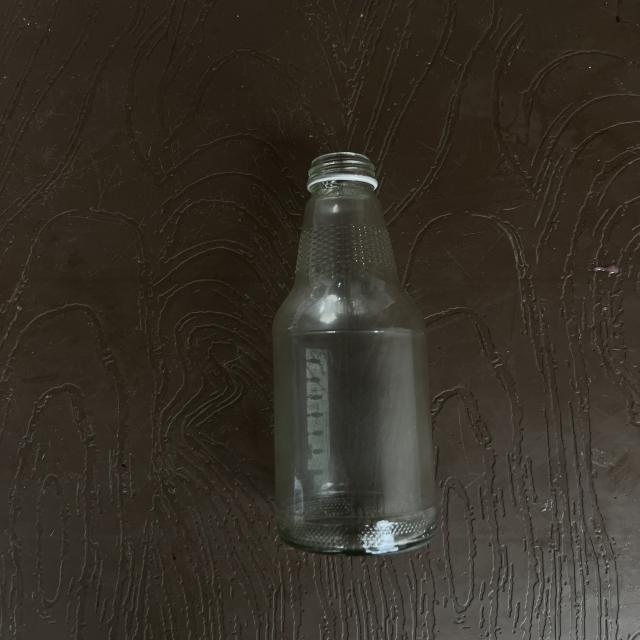Glass_Bottle: (273, 153, 436, 554)
